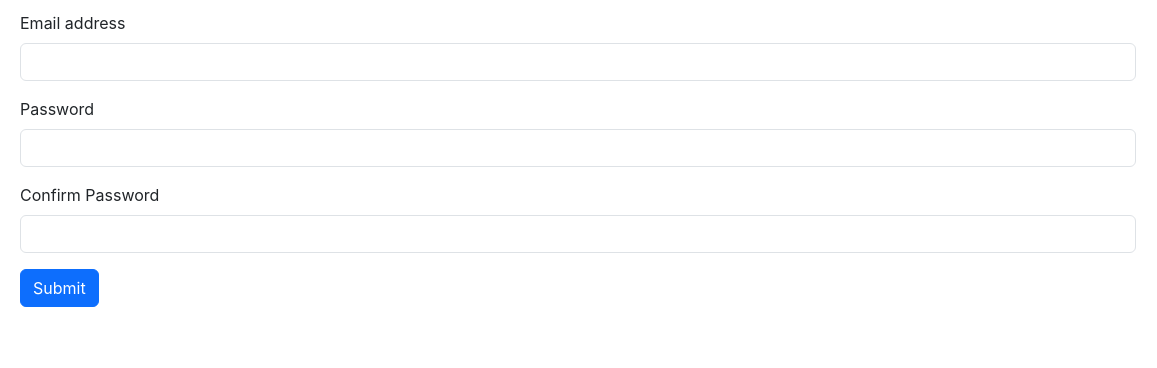
show err › should show email error message on invalid email
The width and height of the screenshot is (1157, 368).
Expected: the button with test id "button" is shown, [20, 269, 99, 307]
Step 1. Type "123" into the field labelled "Email address" → (578, 62), box [20, 43, 1136, 81]
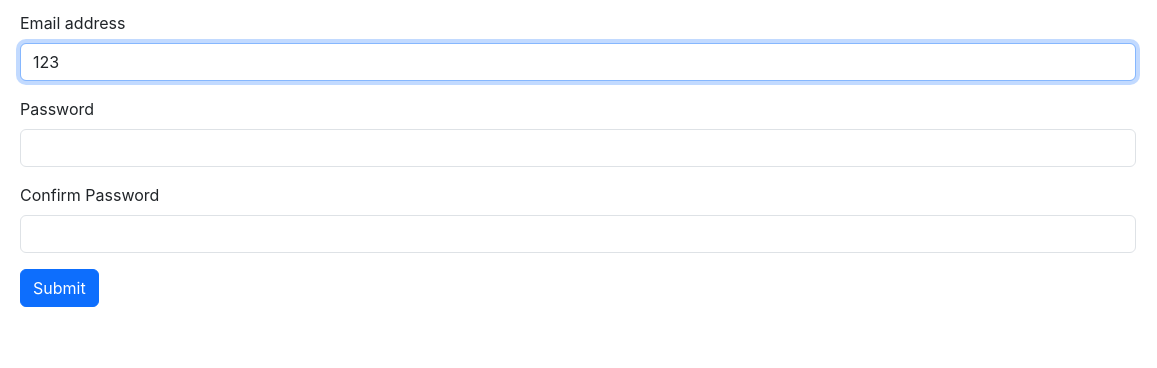
Step 2. Click the button with test id "button" → (59, 288), box [20, 269, 99, 307]
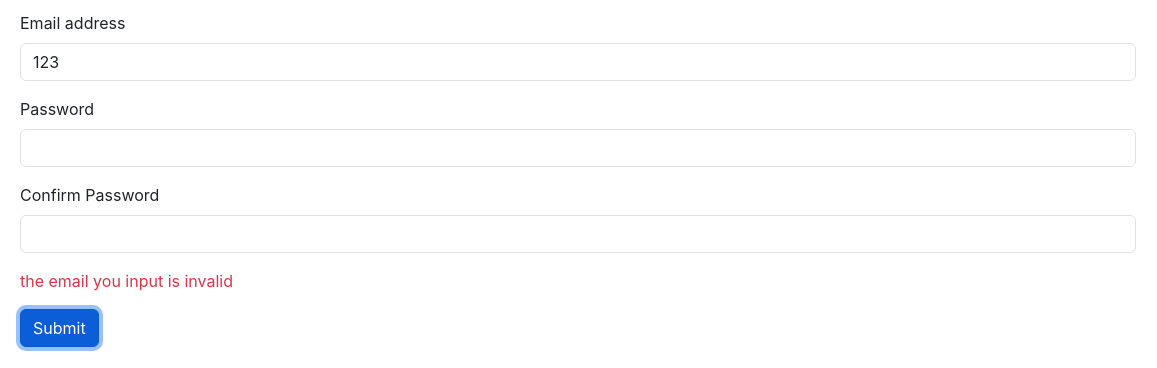
Expected: the text "the email you input is invalid" is shown, [20, 271, 233, 291]
